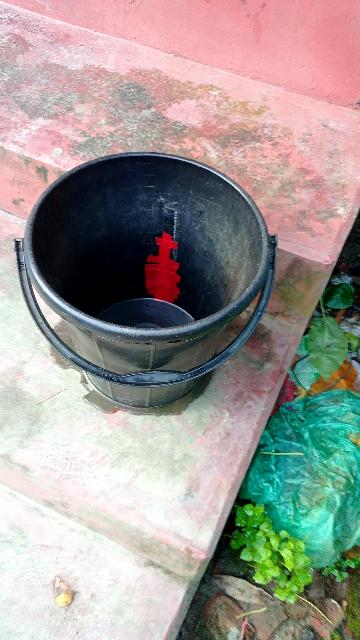hardplastic: (19, 153, 280, 415)
